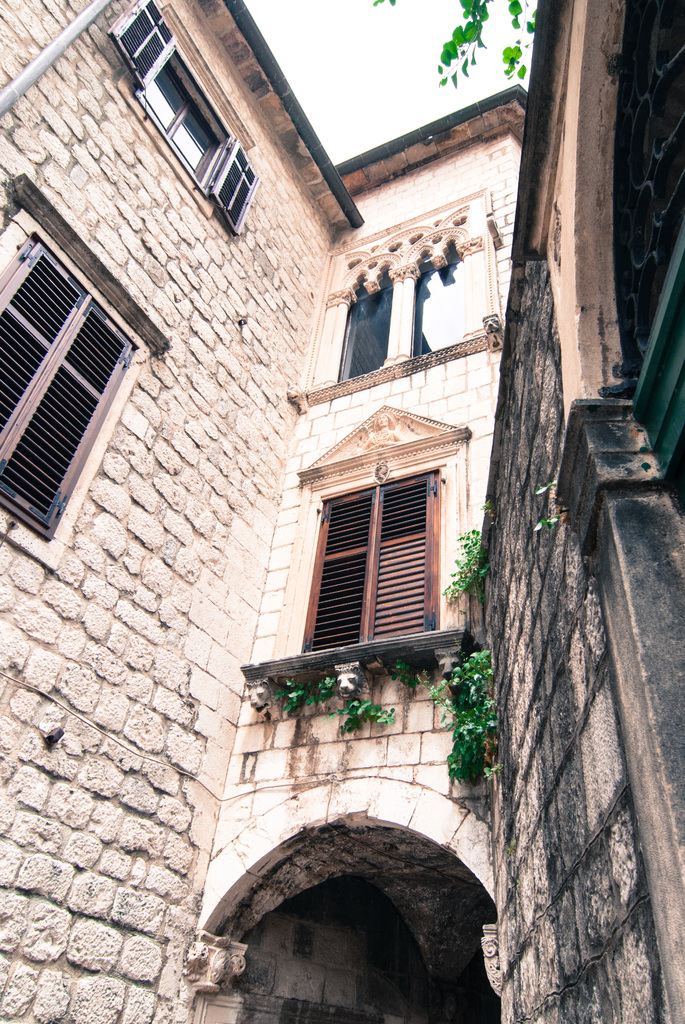Window: (0, 219, 143, 527), (107, 0, 260, 237), (300, 469, 443, 659), (335, 225, 491, 364)
